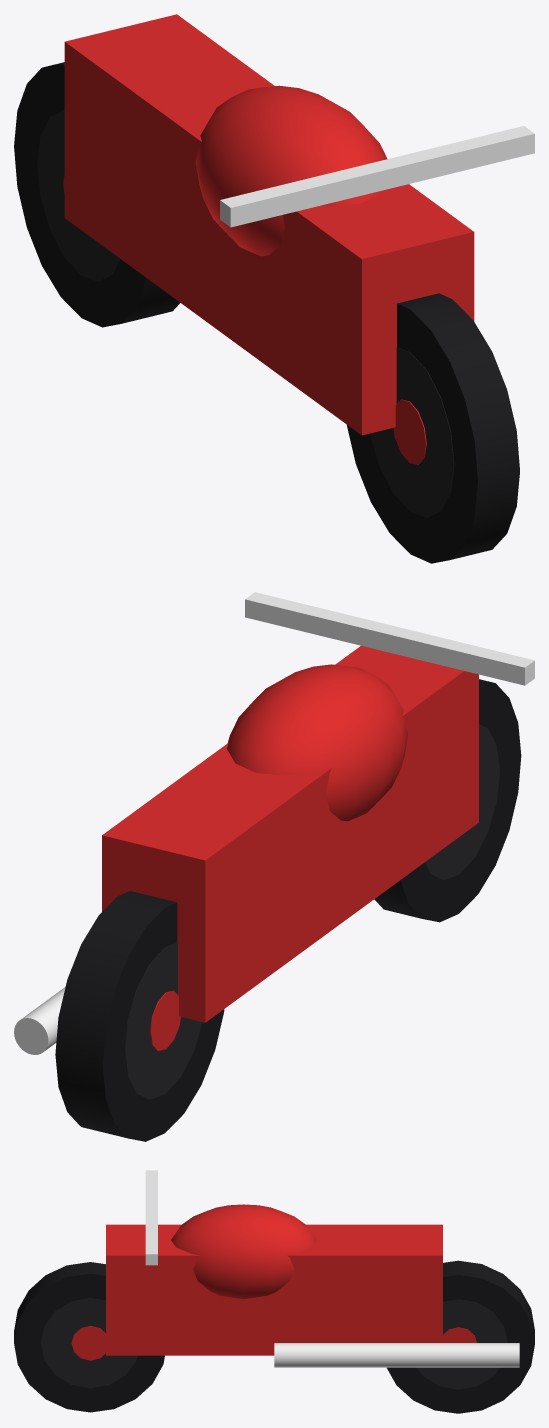
The model's file is motorcycle.glb.
3 views of the same model, one above another, from view 1: azimuth 30°, elevation 25°; view 2: azimuth 150°, elevation 25°; view 3: azimuth 270°, elevation 25° (orthographic). The views are drawn at different scales.
Bounding box in the file's own units: 0.3824 × 0.4188 × 1.
